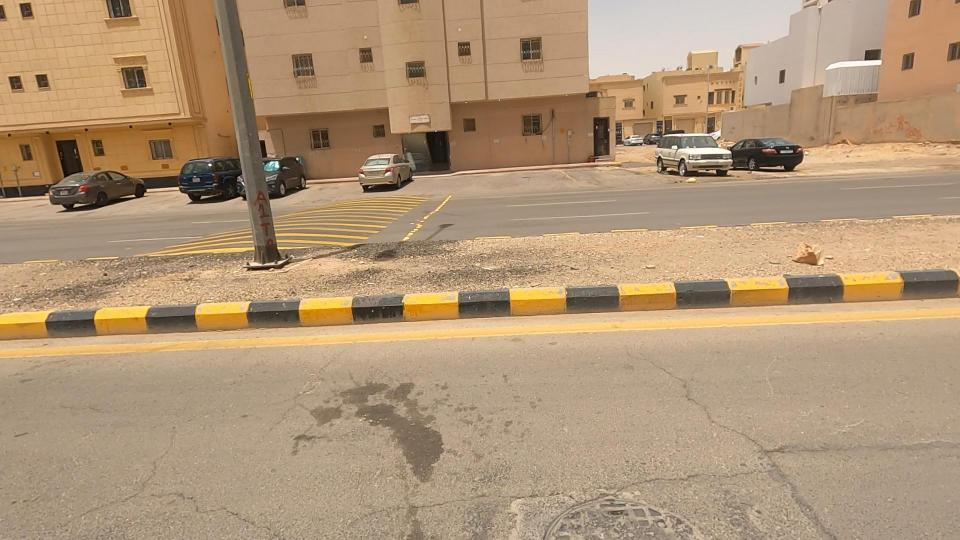CLUTTER_SIDEWALK: (198, 171, 960, 372)
GARBAGE: (722, 207, 872, 287)
